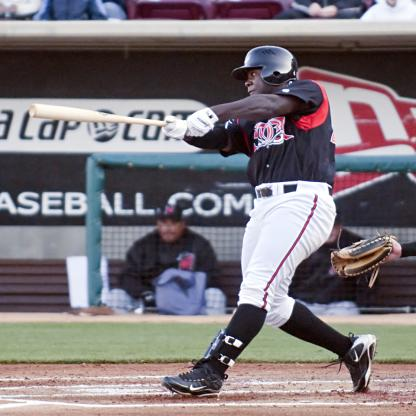Helmet: (242, 43, 303, 84)
